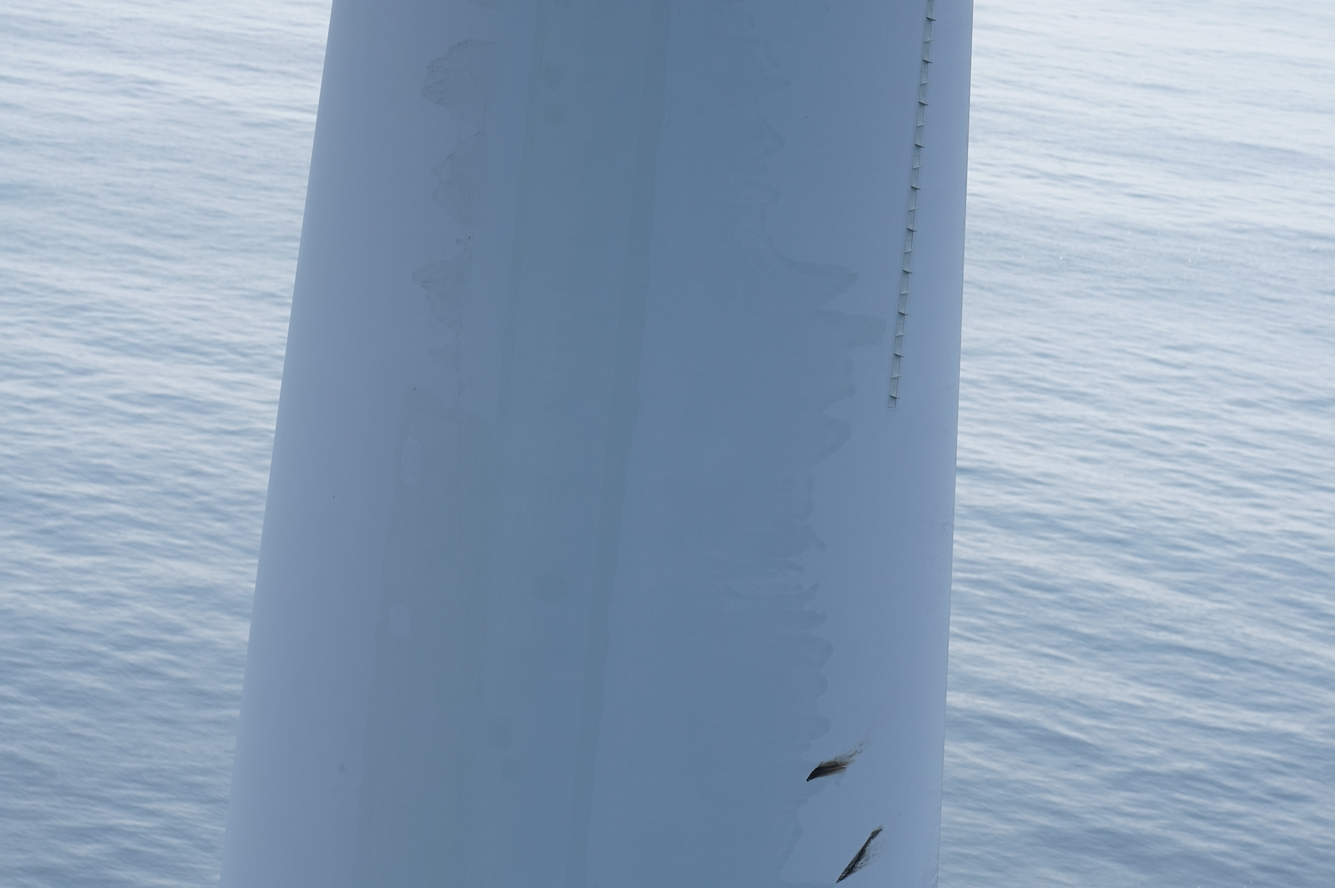Dirt: (835, 824, 887, 883), (805, 746, 860, 784)
